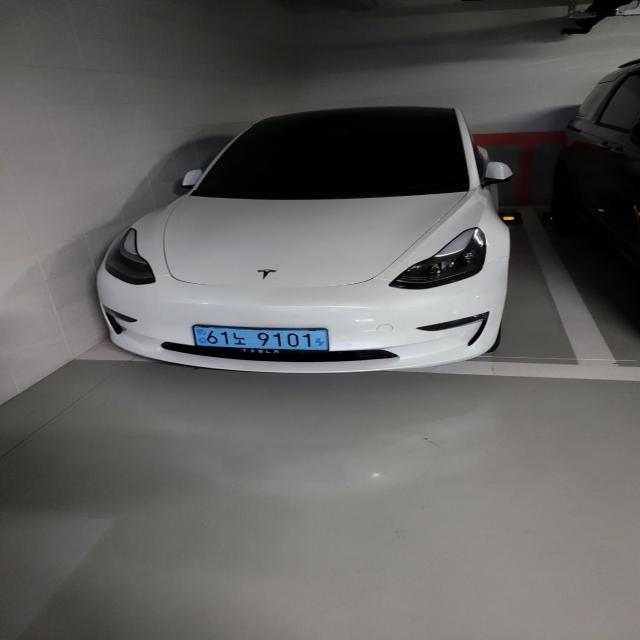EV_plate: (193, 319, 337, 359)
car: (86, 100, 531, 386)
